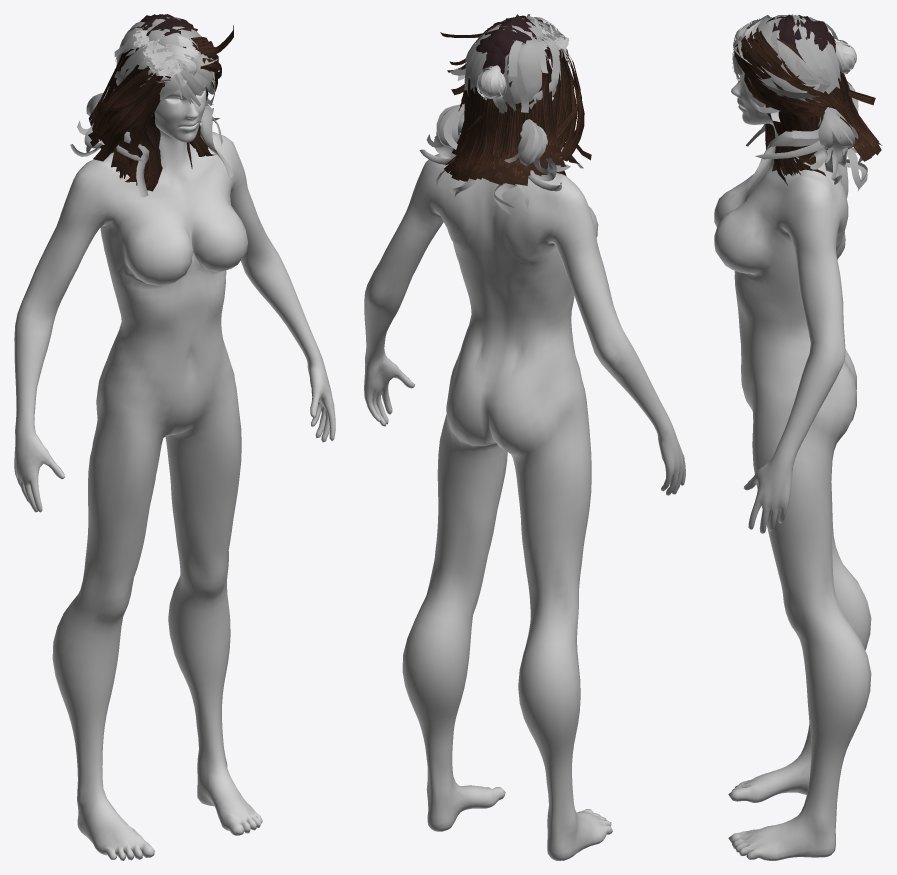
File: F_Hair.fbx
3 views of the same model, side by side, from view 1: azimuth 30°, elevation 25°; view 2: azimuth 150°, elevation 25°; view 3: azimuth 270°, elevation 25° (orthographic).
Visible parts, largest first — view 1: Femail_Basemesh1BASE, F_HairLong, F_HairPonytailx2, F_HairShort, F_HairPonytail, F_HairShavedSide, F_HairMessy; view 2: Femail_Basemesh1BASE, F_HairLong, F_HairPonytailx2, F_HairMessy, F_HairPonytail; view 3: Femail_Basemesh1BASE, F_HairPonytailx2, F_HairLong, F_HairPonytail, F_HairMessy, F_HairShavedSide.
Boxes of the visible parts, box(x1,y1,x2,y2) form: Femail_Basemesh1BASE: box(14, 85, 335, 860); F_HairLong: box(88, 25, 233, 191); F_HairPonytailx2: box(70, 17, 233, 197); F_HairShort: box(133, 25, 187, 76); F_HairPonytail: box(140, 35, 215, 115); F_HairShavedSide: box(147, 26, 217, 68); F_HairMessy: box(136, 14, 193, 48); Femail_Basemesh1BASE: box(364, 153, 685, 860); F_HairLong: box(440, 15, 591, 185); F_HairPonytailx2: box(419, 20, 583, 214); F_HairMessy: box(476, 14, 548, 87); F_HairPonytail: box(476, 14, 568, 113); Femail_Basemesh1BASE: box(714, 74, 871, 860); F_HairPonytailx2: box(732, 15, 867, 190); F_HairLong: box(734, 27, 882, 185); F_HairPonytail: box(733, 19, 856, 121); F_HairMessy: box(746, 14, 835, 52); F_HairShavedSide: box(733, 15, 796, 72).
Size of the model in its own units: 22.04 by 54.84 by 10.33.
